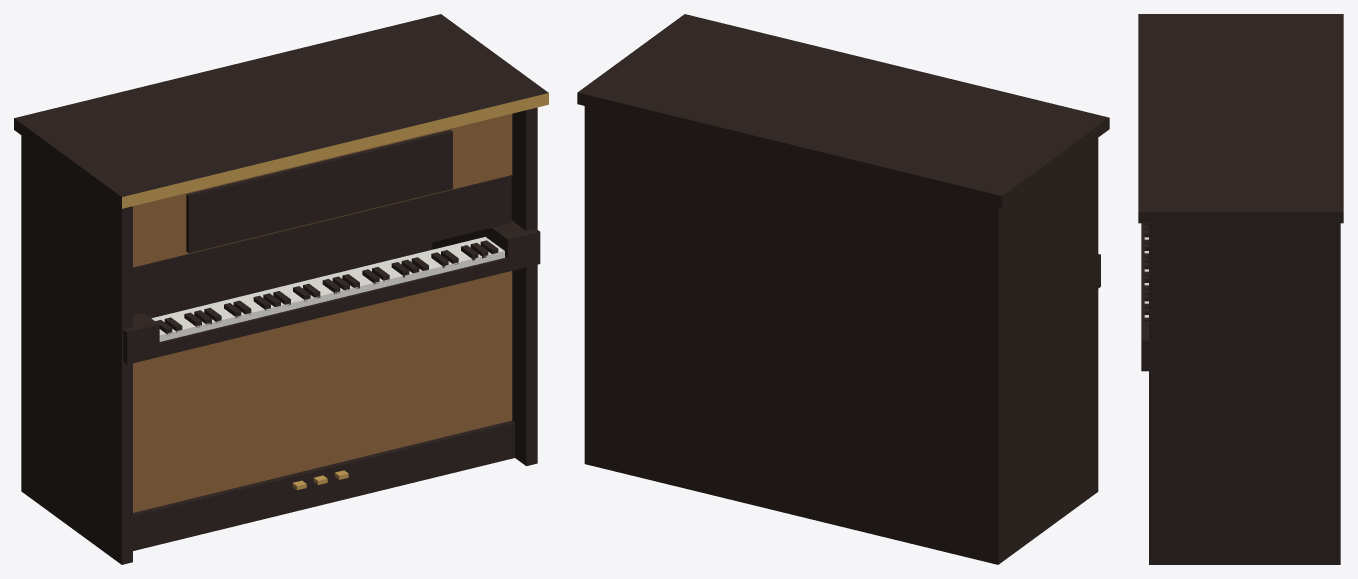
Rendered from FN_Piano_Upright.glb.
The picture shows the model from 3 angles, left to right: view 1: azimuth 30°, elevation 25°; view 2: azimuth 150°, elevation 25°; view 3: azimuth 270°, elevation 25°; orthographic projection. The views are drawn at different scales.
Parts seen in each view (by area): view 1: FN_Piano_Upright; view 2: FN_Piano_Upright; view 3: FN_Piano_Upright.
Boxes of the visible parts, bbox=[...] form: FN_Piano_Upright: bbox=[14, 14, 548, 564]; FN_Piano_Upright: bbox=[577, 14, 1109, 564]; FN_Piano_Upright: bbox=[1138, 14, 1343, 564].
Size of the model in its own units: 1.52 by 1.27 by 0.665.
Materials: 1 (1 with a texture image).
